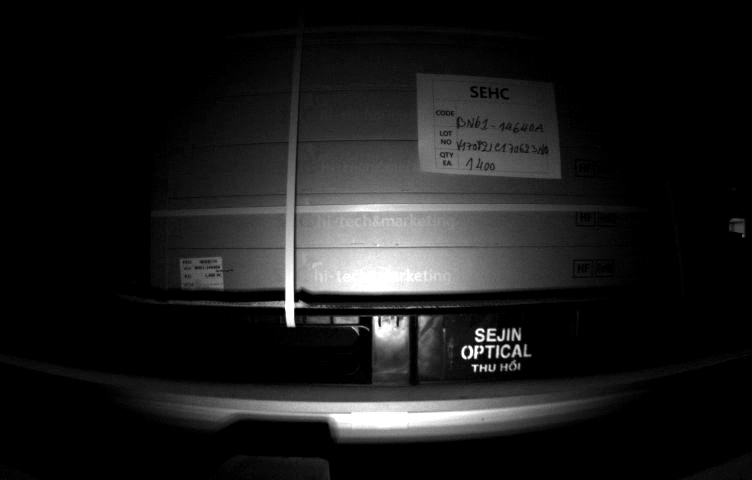True Barcode: (176, 257, 227, 294)
